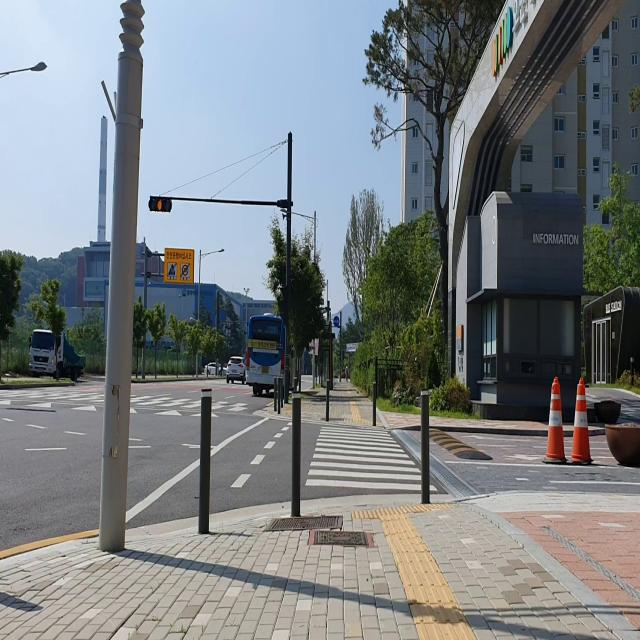횡단보도: (305, 426, 438, 492), (0, 388, 248, 415)
